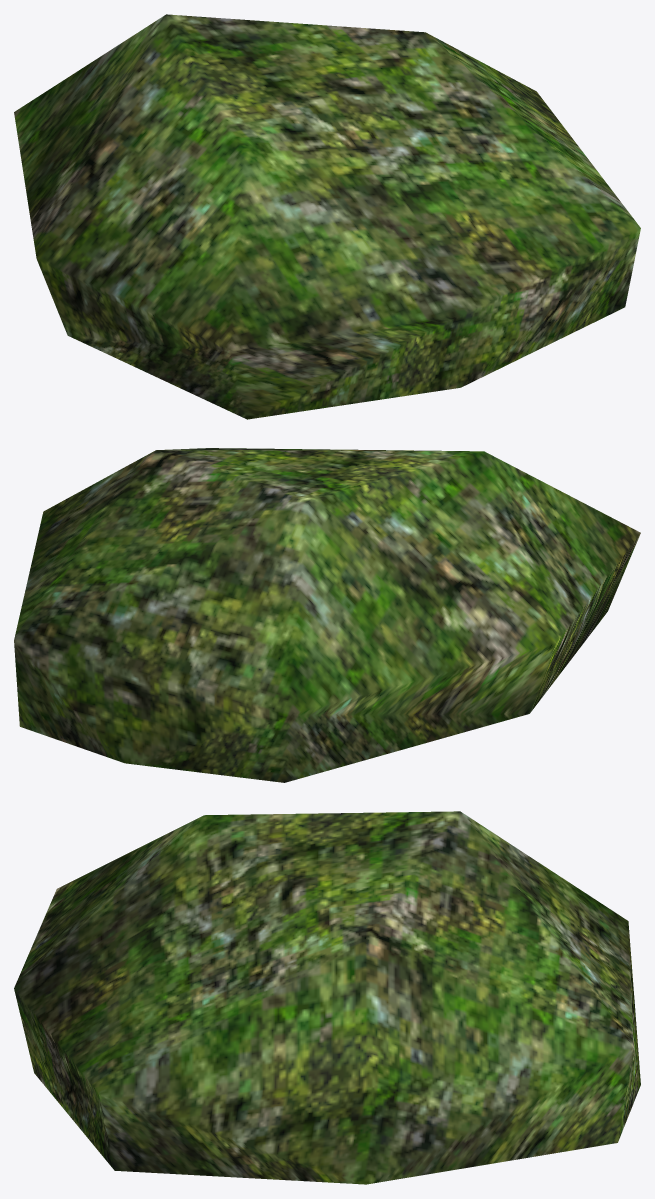
The model's file is frst_rock_mossy_lg_l2.fbx.
3 views of the same model, one above another, from view 1: azimuth 30°, elevation 25°; view 2: azimuth 150°, elevation 25°; view 3: azimuth 270°, elevation 25° (orthographic). The views are drawn at different scales.
Parts seen in each view (by area): view 1: mesh_node; view 2: mesh_node; view 3: mesh_node.
Part boxes in pixels (bbox=[...]): mesh_node: bbox=[14, 14, 640, 419]; mesh_node: bbox=[14, 448, 640, 782]; mesh_node: bbox=[14, 811, 640, 1184].
Size of the model in its own units: 1.92 by 0.8185 by 2.06.
